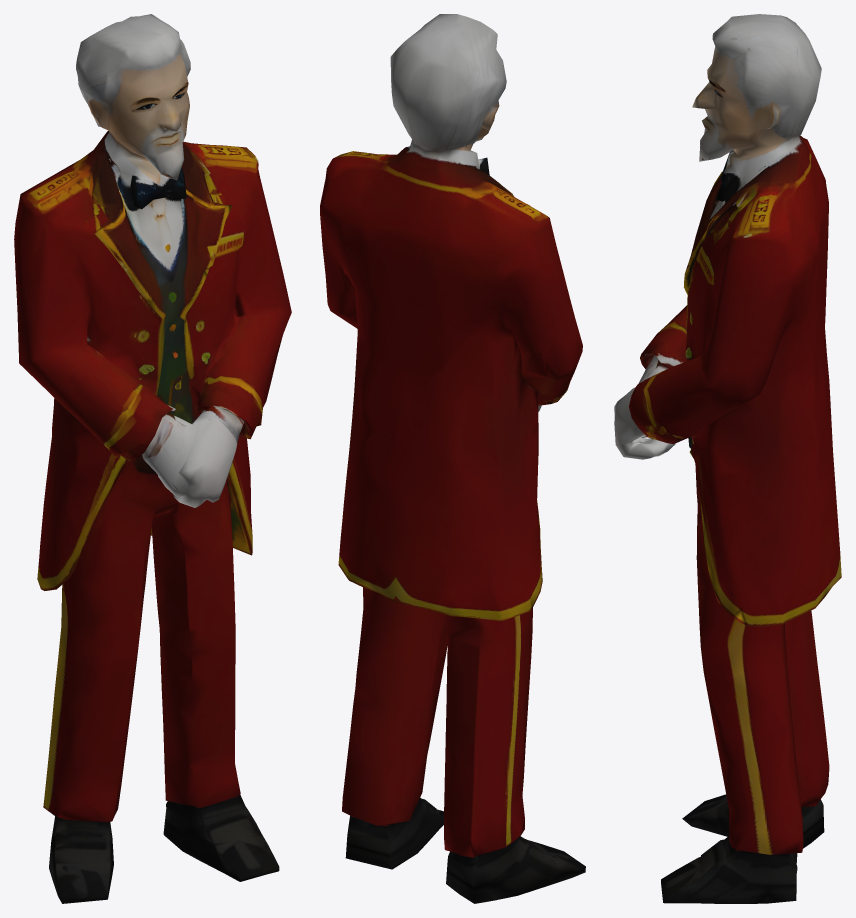
The model's file is hotel+concierge+3d+model.glb.
3 renders of one model, left to right at view 1: azimuth 30°, elevation 25°; view 2: azimuth 150°, elevation 25°; view 3: azimuth 270°, elevation 25°, orthographic.
Parts seen in each view (by area): view 1: tripo_node_20fddf78-9d13-4476-8b00-731205f726bd; view 2: tripo_node_20fddf78-9d13-4476-8b00-731205f726bd; view 3: tripo_node_20fddf78-9d13-4476-8b00-731205f726bd.
Boxes of the visible parts, left/top/right/bottom form: tripo_node_20fddf78-9d13-4476-8b00-731205f726bd: left=14, top=14, right=291, bottom=903; tripo_node_20fddf78-9d13-4476-8b00-731205f726bd: left=320, top=14, right=585, bottom=903; tripo_node_20fddf78-9d13-4476-8b00-731205f726bd: left=614, top=14, right=841, bottom=903.
Size of the model in its own units: 0.3154 by 0.9998 by 0.2463.
1 material, 1 textured.
